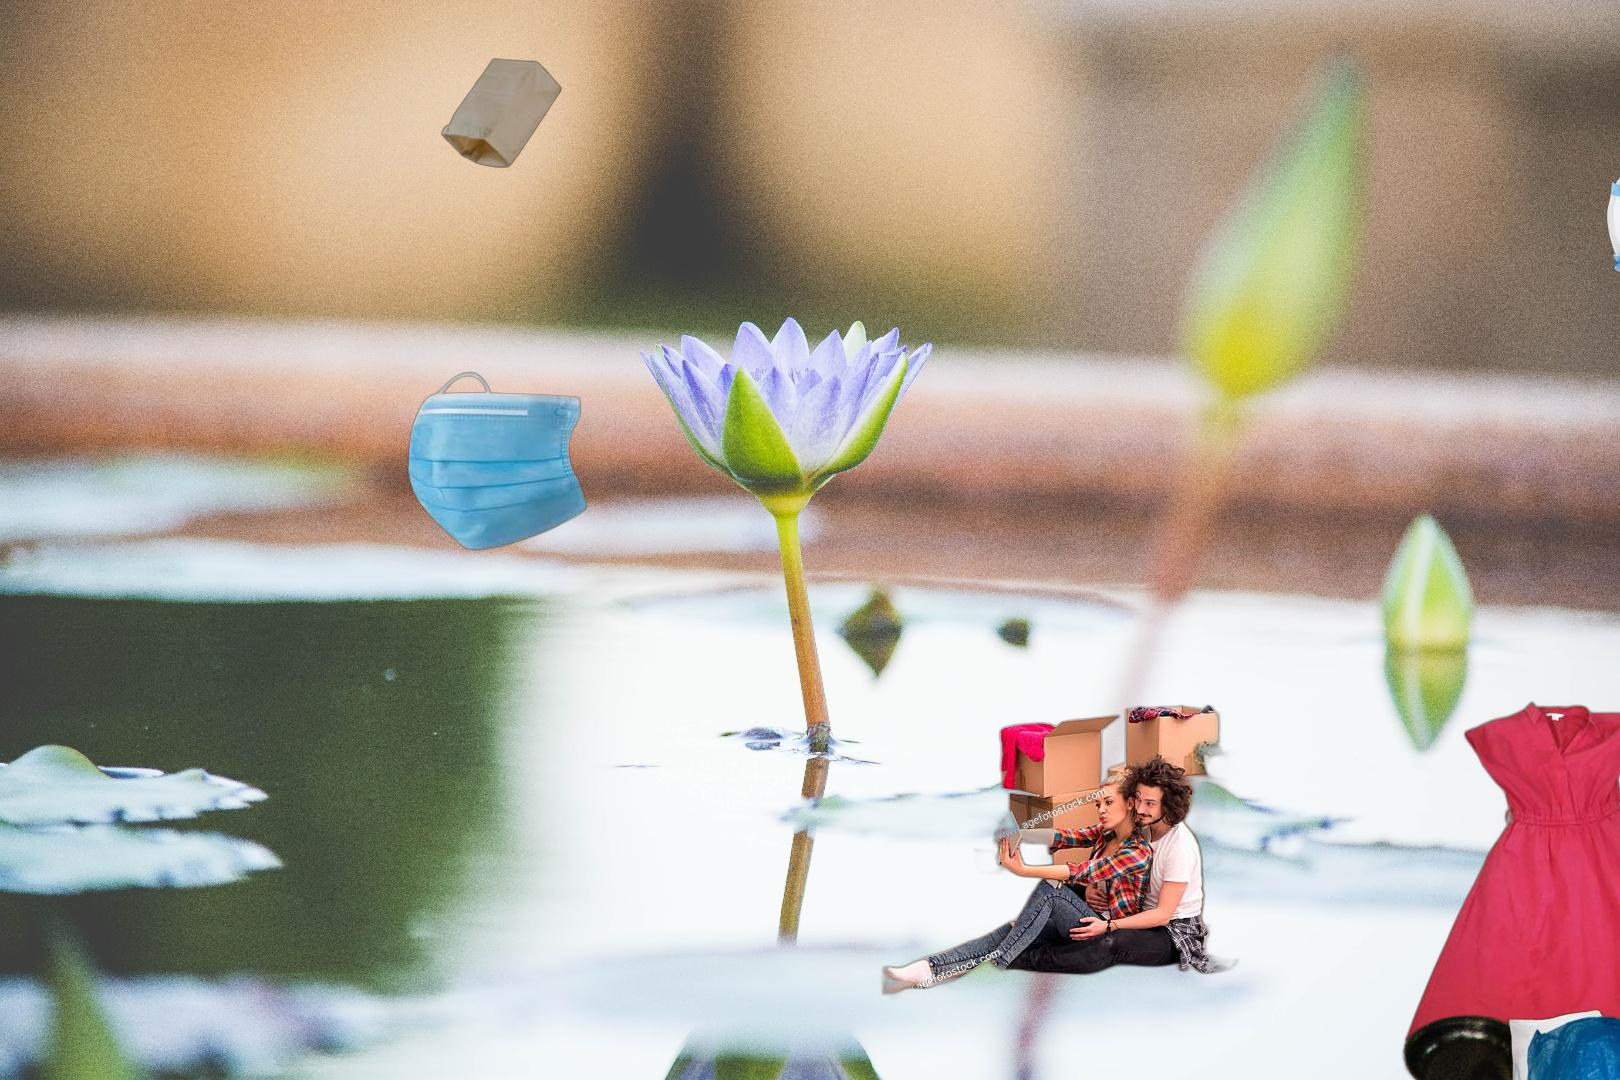clothes: (1403, 698, 1620, 1062)
paper-bag: (439, 57, 563, 171)
plastic-bag: (1399, 1008, 1620, 1080)
trash: (405, 369, 622, 553), (1604, 127, 1620, 307)
trashbox-cardboard: (877, 702, 1243, 1002), (127, 1022, 499, 1080)
